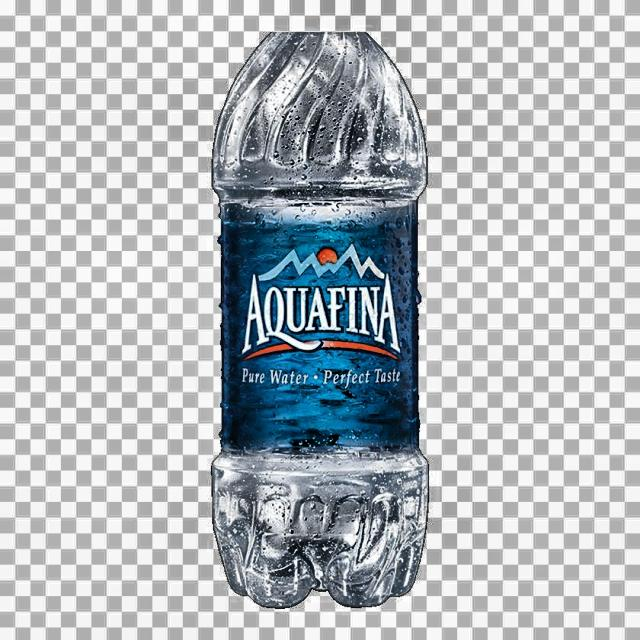plastic bottle: (212, 32, 429, 609)
